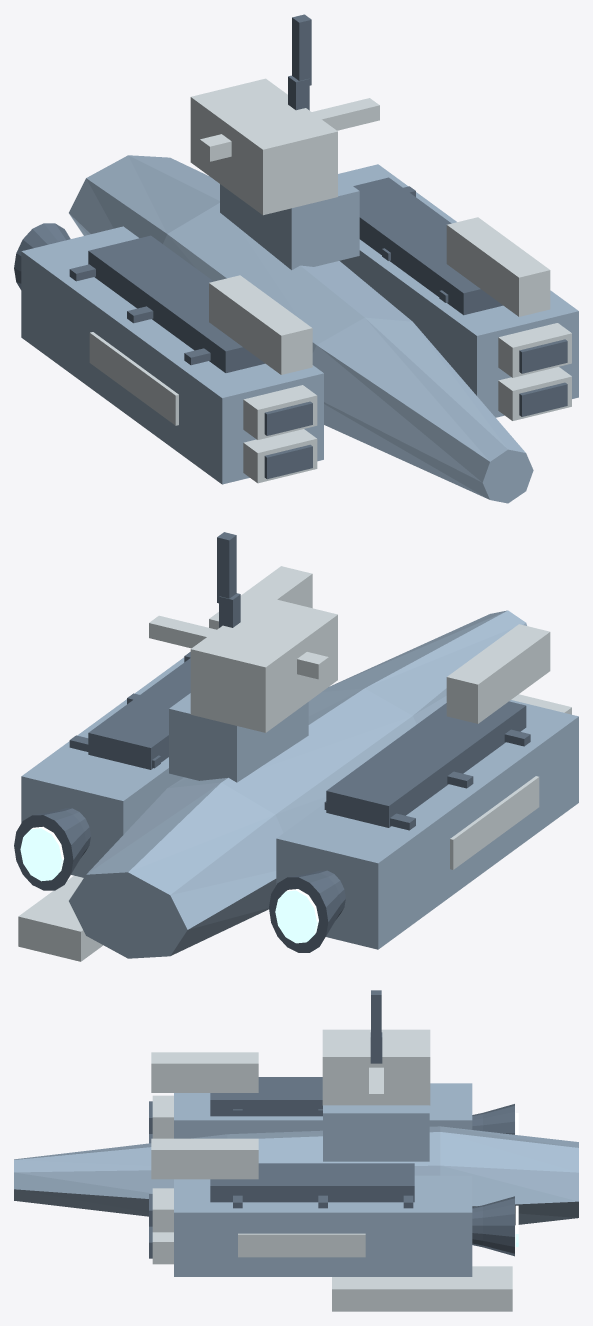
3 renders of one model, top to bottom at view 1: azimuth 30°, elevation 25°; view 2: azimuth 150°, elevation 25°; view 3: azimuth 270°, elevation 25°, orthographic. The views are drawn at different scales.
Bounding box in the file's own units: 11.61 × 11.35 × 21.02.
